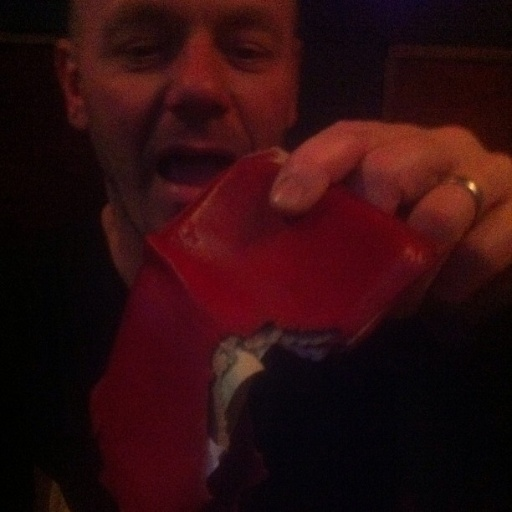hand: (148, 119, 509, 353)
